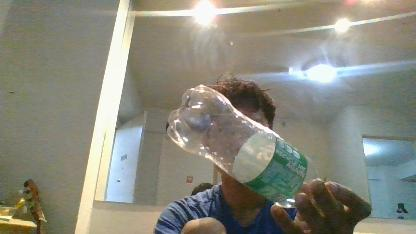Plastic Bottle: (163, 85, 322, 211)
